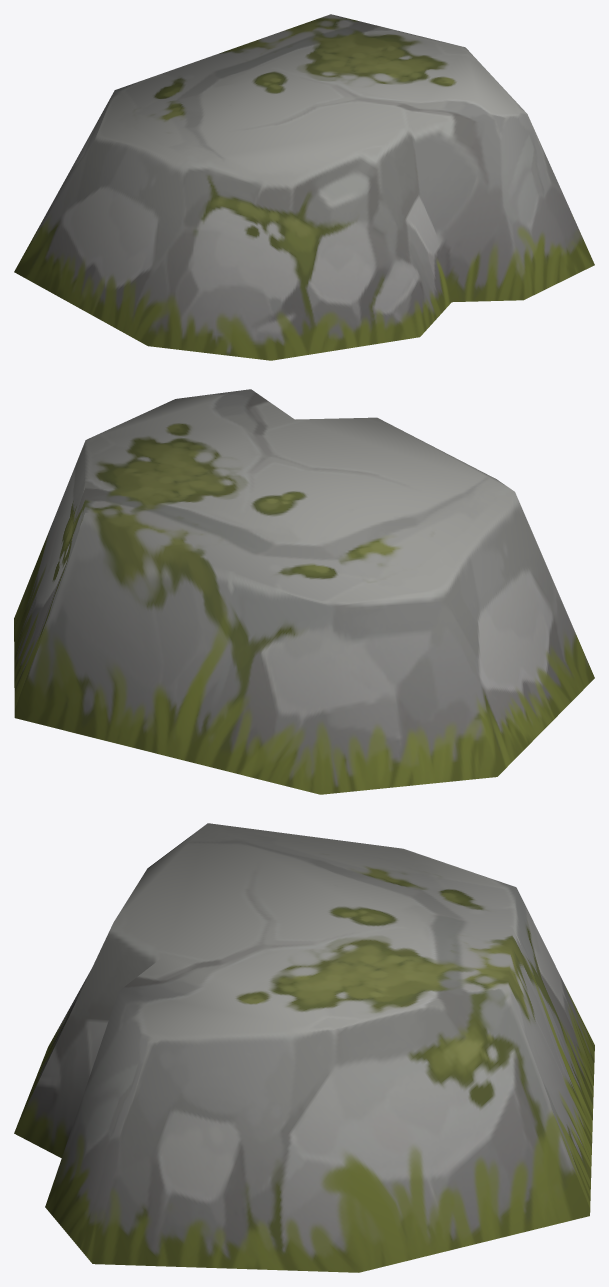
File: Na_Stone_04.FBX
3 renders of one model, top to bottom at view 1: azimuth 30°, elevation 25°; view 2: azimuth 150°, elevation 25°; view 3: azimuth 270°, elevation 25°, orthographic. The views are drawn at different scales.
Parts seen in each view (by area): view 1: Na_Stone_04; view 2: Na_Stone_04; view 3: Na_Stone_04.
Part boxes in pixels (x1=…): Na_Stone_04: x1=14, y1=14, x2=594, y2=360; Na_Stone_04: x1=14, y1=389, x2=594, y2=794; Na_Stone_04: x1=14, y1=823, x2=594, y2=1272.
Size of the model in its own units: 2.16 by 0.725 by 1.83.
